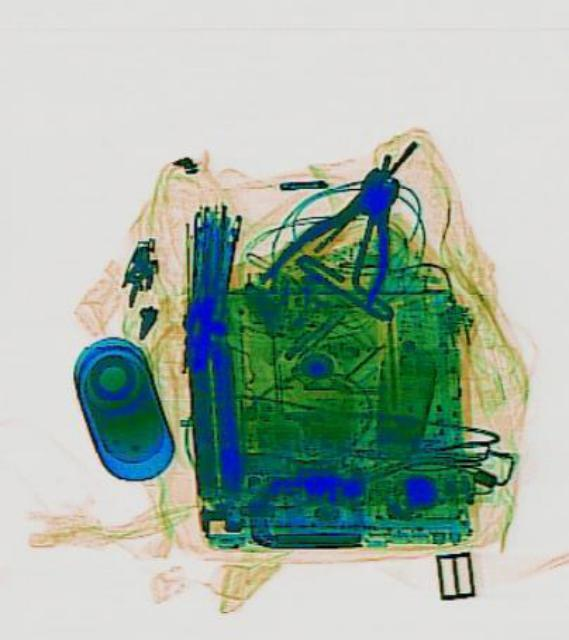Pliers: (255, 142, 426, 336)
